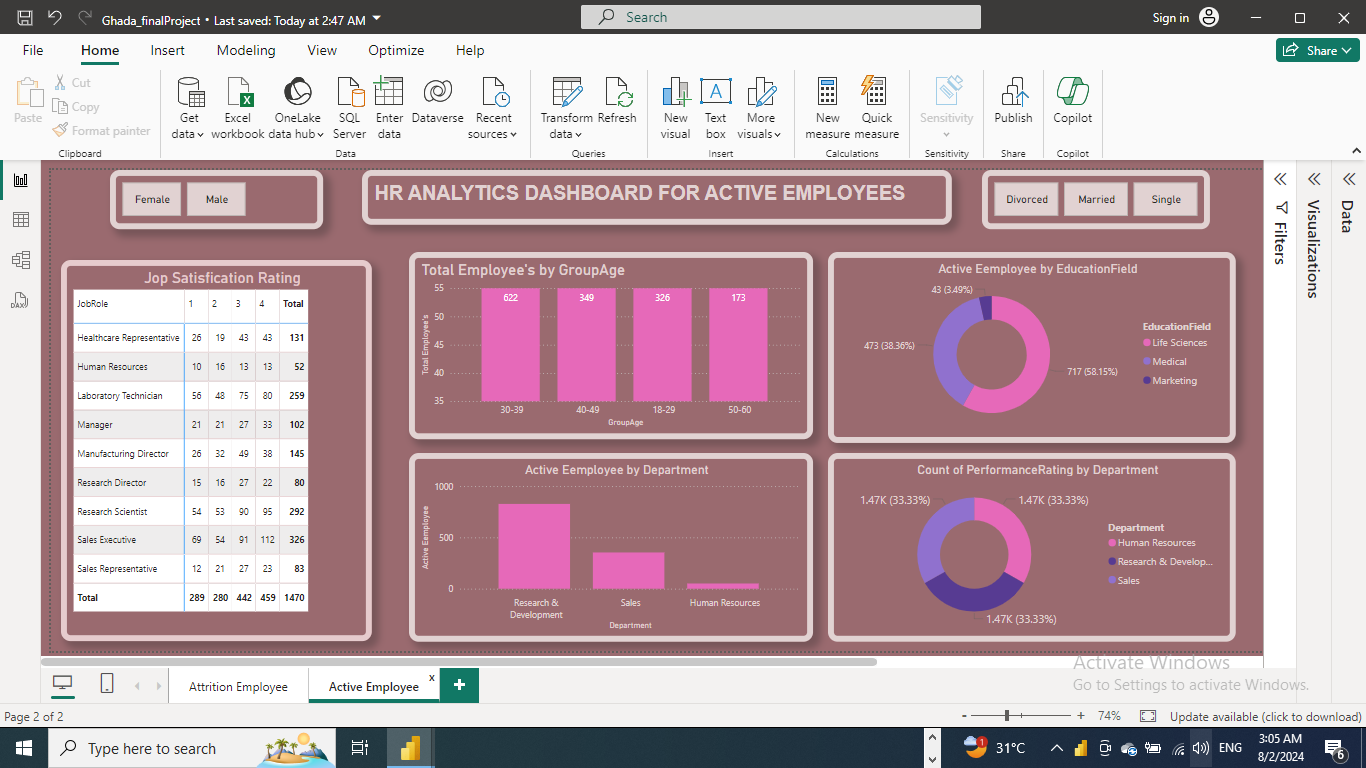

This screenshot's page, from the dashboard's own definition file:
{"tool":"powerbi","page":{"name":"Active Employee","canvas":[2400,650],"ordinal":1},"visuals":[{"type":"columnChart","fields":{"Category":["DimEmployee.Department"],"Y":["DaxMeasure.Active Eemployee"]},"box":[483.8,382.4,545.9,255.4],"z":0},{"type":"donutChart","fields":{"Y":["DaxMeasure.Active Eemployee"],"Category":["DimEducation.EducationField"]},"box":[1050,110.8,551.4,258.1],"z":1000},{"type":"clusteredColumnChart","fields":{"Category":["FactEmployee.GroupAge"],"Y":["DaxMeasure.Total Employee's"]},"box":[483.8,110.8,545.9,252.7],"z":2000},{"type":"donutChart","fields":{"Series":["DimEmployee.Department"],"Y":["CountNonNull(DimPerformance.PerformanceRating)"]},"box":[1050,382.4,551.4,255.4],"z":3000},{"type":"textbox","box":[420.3,0,797.3,74.3],"z":4000},{"type":"advancedSlicerVisual","fields":{"Values":["DimEmployee.MaritalStatus"]},"box":[1258.1,0,308.1,79.7],"z":5000},{"type":"advancedSlicerVisual","fields":{"Values":["DimEmployee.Gender"]},"box":[79.7,0,287.8,79.7],"z":6000},{"type":"pivotTable","title":"Jop Satisfication Rating","fields":{"Values":["CountNonNull(DimRole.JobSatisfaction)"],"Rows":["DimRole.JobRole"],"Columns":["DimRole.JobSatisfaction"]},"box":[14,121.6,420.3,515],"z":7000}]}

Visuals, with their boxes on the page's 2400x650 design canvas (x1, y1, x2, y2). These are canvas units, not pixel positions in the 1366x768 screenshot, which may show the page scaled, cropped or inside an application window:
columnChart - DimEmployee.Department x DaxMeasure.Active Eemployee: (484, 382, 1030, 638)
donutChart - DaxMeasure.Active Eemployee x DimEducation.EducationField: (1050, 111, 1601, 369)
clusteredColumnChart - FactEmployee.GroupAge x DaxMeasure.Total Employee's: (484, 111, 1030, 364)
donutChart - DimEmployee.Department x CountNonNull(DimPerformance.PerformanceRating): (1050, 382, 1601, 638)
textbox: (420, 0, 1218, 74)
advancedSlicerVisual - DimEmployee.MaritalStatus: (1258, 0, 1566, 80)
advancedSlicerVisual - DimEmployee.Gender: (80, 0, 368, 80)
"Jop Satisfication Rating" pivotTable: (14, 122, 434, 637)
